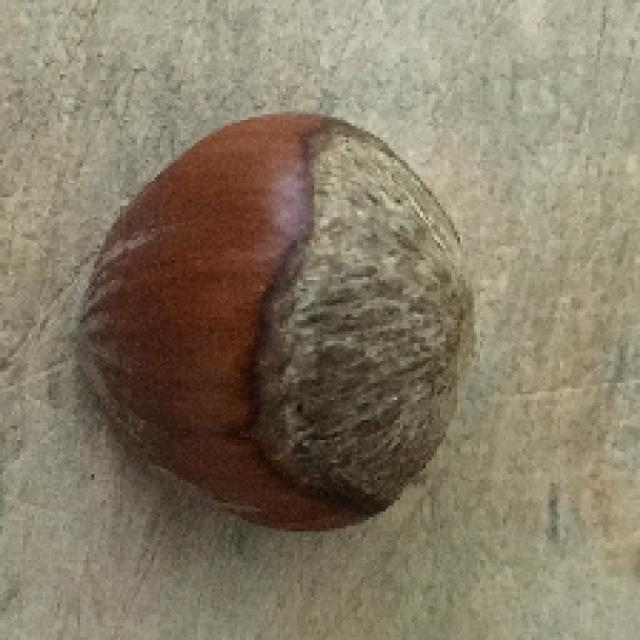qualityHazelnut: (62, 113, 480, 529)
